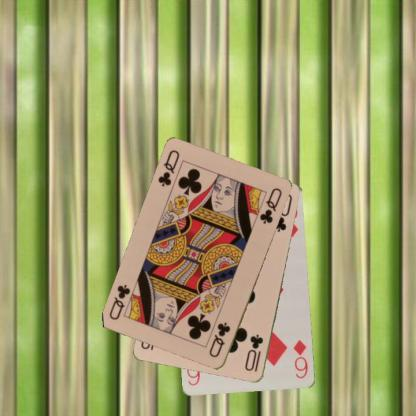10c: (242, 332, 265, 373)
6d: (290, 338, 310, 380)
Qc: (155, 148, 181, 188), (207, 320, 232, 360)
